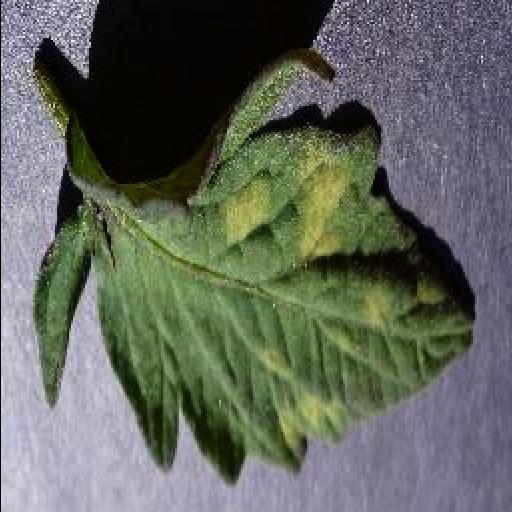disease_tomato: (30, 52, 474, 492)
